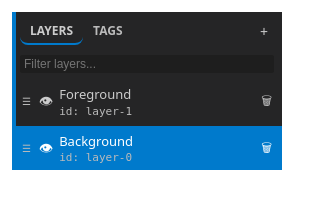
it: LayersPanel › context menu › opens context menu on right-click of a layer row
Right-click the element with test id "layer-row-layer-1" at (95, 94), box [12, 79, 282, 124]
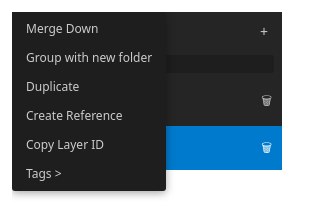
Check: the element with test id "layer-context-menu" is shown, box [12, 12, 166, 191]
